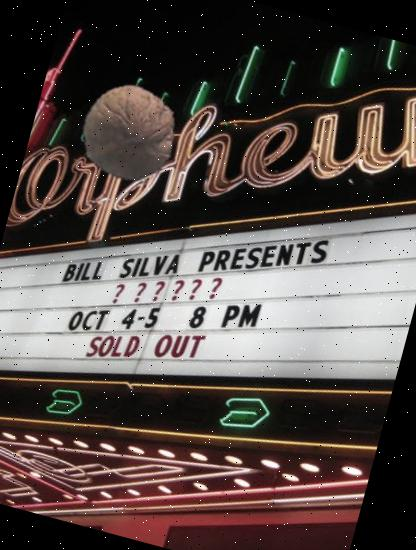Walnut: (69, 73, 189, 192)
